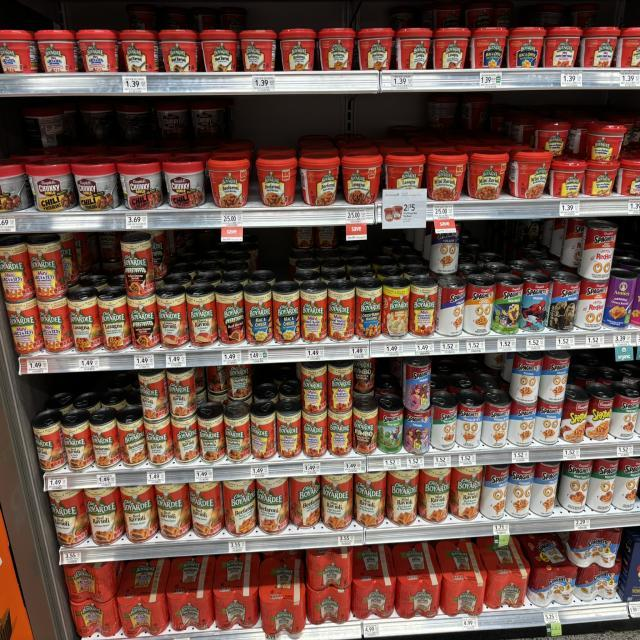Canned Food: (28, 233, 68, 302), (0, 235, 35, 302), (579, 220, 618, 280), (49, 490, 90, 547), (85, 487, 125, 545), (120, 485, 159, 543), (121, 232, 155, 298), (68, 287, 102, 352), (222, 478, 258, 537), (61, 408, 95, 470), (31, 410, 66, 470), (6, 298, 44, 353), (156, 285, 189, 348), (98, 287, 131, 350), (38, 295, 74, 352), (186, 283, 218, 347), (462, 273, 495, 335), (602, 268, 636, 328), (491, 273, 524, 333), (155, 483, 191, 538), (215, 282, 246, 345), (189, 482, 224, 537), (548, 272, 580, 332), (519, 272, 551, 332), (116, 407, 148, 467), (435, 275, 466, 336), (90, 407, 121, 468), (321, 473, 354, 530), (418, 468, 451, 523), (386, 470, 419, 525), (256, 478, 289, 533), (481, 388, 511, 448), (196, 402, 226, 462), (409, 275, 438, 337), (128, 292, 160, 348), (354, 472, 386, 528), (509, 352, 544, 403), (586, 458, 619, 512), (575, 278, 609, 330), (558, 460, 592, 512), (244, 282, 272, 345), (449, 467, 482, 520), (381, 277, 410, 337), (585, 382, 615, 440), (560, 385, 590, 443), (455, 390, 485, 448), (300, 280, 328, 342), (609, 383, 640, 439), (272, 282, 300, 343), (328, 278, 355, 340), (530, 462, 560, 517), (505, 463, 535, 518), (479, 465, 509, 520), (355, 277, 382, 338), (539, 350, 570, 403), (290, 475, 321, 528), (224, 402, 251, 462), (402, 357, 431, 412), (431, 392, 458, 450), (378, 393, 404, 453), (250, 400, 276, 460), (139, 368, 169, 420), (611, 457, 640, 510), (166, 367, 196, 418), (276, 398, 301, 458), (144, 415, 174, 465), (300, 362, 328, 415), (352, 397, 378, 453), (171, 413, 200, 463), (534, 398, 564, 445), (508, 400, 538, 447), (328, 360, 354, 413), (404, 407, 432, 453), (302, 408, 328, 457), (328, 410, 352, 455), (226, 365, 252, 400), (354, 358, 375, 393), (206, 365, 228, 393), (630, 273, 640, 327), (338, 378, 341, 383), (589, 475, 591, 479)
